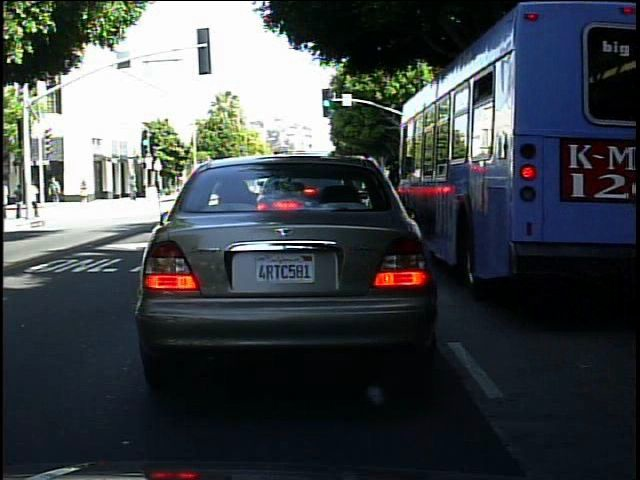person: (76, 171, 94, 209), (48, 173, 67, 206), (125, 170, 143, 204), (30, 175, 43, 218), (13, 179, 24, 221)
